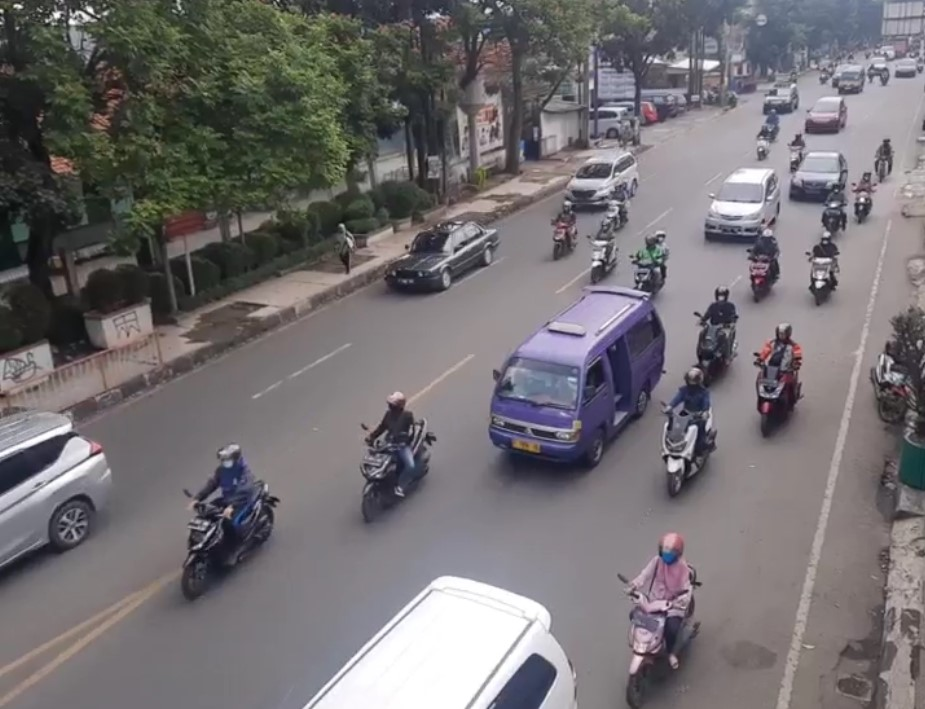motor: (158, 444, 281, 594), (605, 529, 703, 706), (353, 382, 437, 521), (658, 371, 726, 503), (750, 322, 807, 435), (683, 290, 745, 381), (802, 228, 851, 300), (740, 227, 786, 302), (628, 229, 672, 297), (586, 220, 622, 280), (546, 200, 580, 257)
